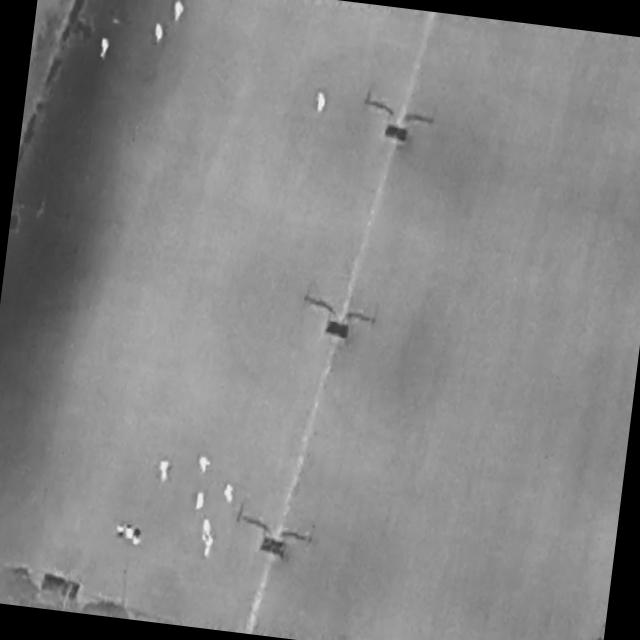person: (158, 460, 173, 485), (201, 534, 216, 559), (223, 483, 236, 505), (198, 457, 213, 474), (172, 1, 184, 22), (194, 491, 206, 512), (154, 23, 165, 45), (316, 92, 327, 114), (201, 518, 213, 537), (100, 37, 110, 59)
